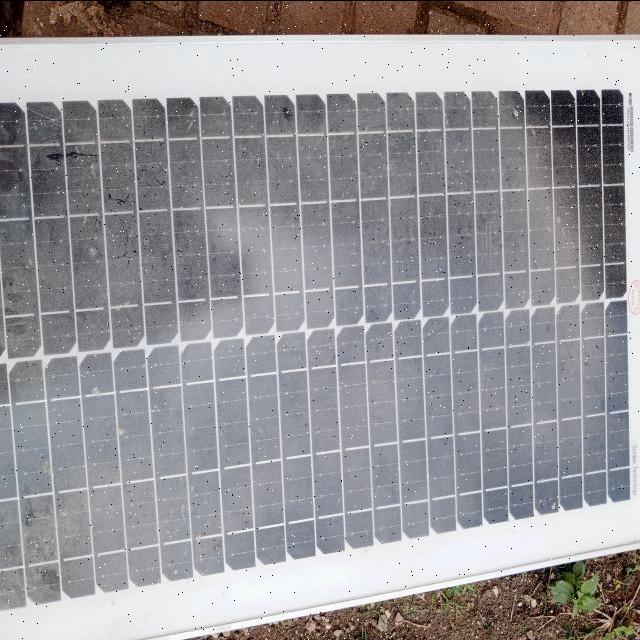Anomaly Solar Panel: (1, 64, 636, 542)
Surface Contaminant: (1, 73, 630, 538)
